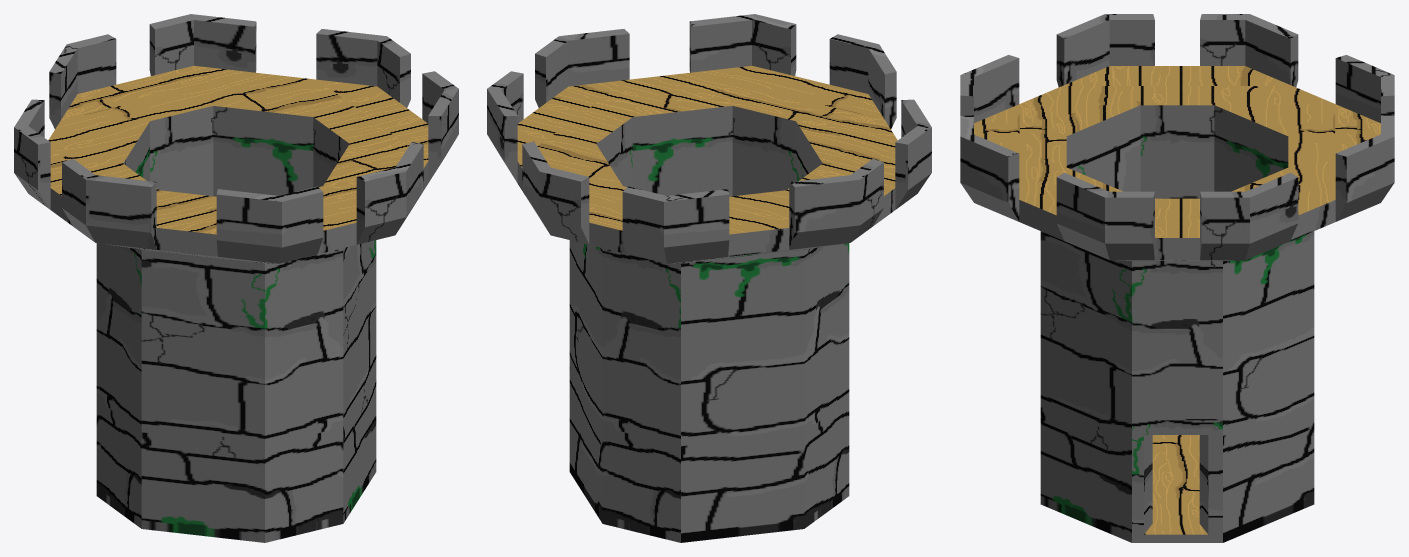
Rendered from castle_tower.glb.
The picture shows the model from 3 angles, left to right: view 1: azimuth 30°, elevation 25°; view 2: azimuth 150°, elevation 25°; view 3: azimuth 270°, elevation 25°; orthographic projection.
Parts seen in each view (by area): view 1: Cube; view 2: Cube; view 3: Cube.
Boxes of the visible parts, left/top/right/bottom form: Cube: left=14, top=14, right=458, bottom=542; Cube: left=487, top=14, right=931, bottom=542; Cube: left=960, top=14, right=1394, bottom=542.
Size of the model in its own units: 9.67 by 9.32 by 9.67.
2 materials, 2 textured.
